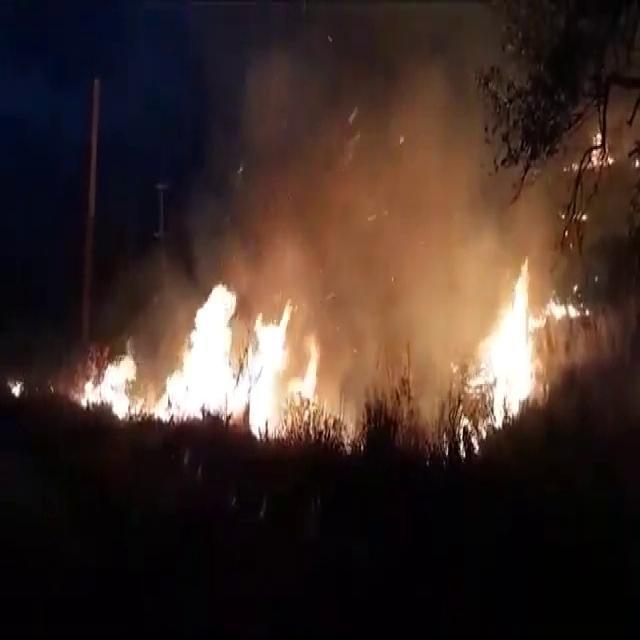Fire: (159, 271, 328, 434), (462, 258, 592, 462), (72, 333, 156, 421), (3, 371, 26, 404)
Smoke: (185, 0, 640, 294)
